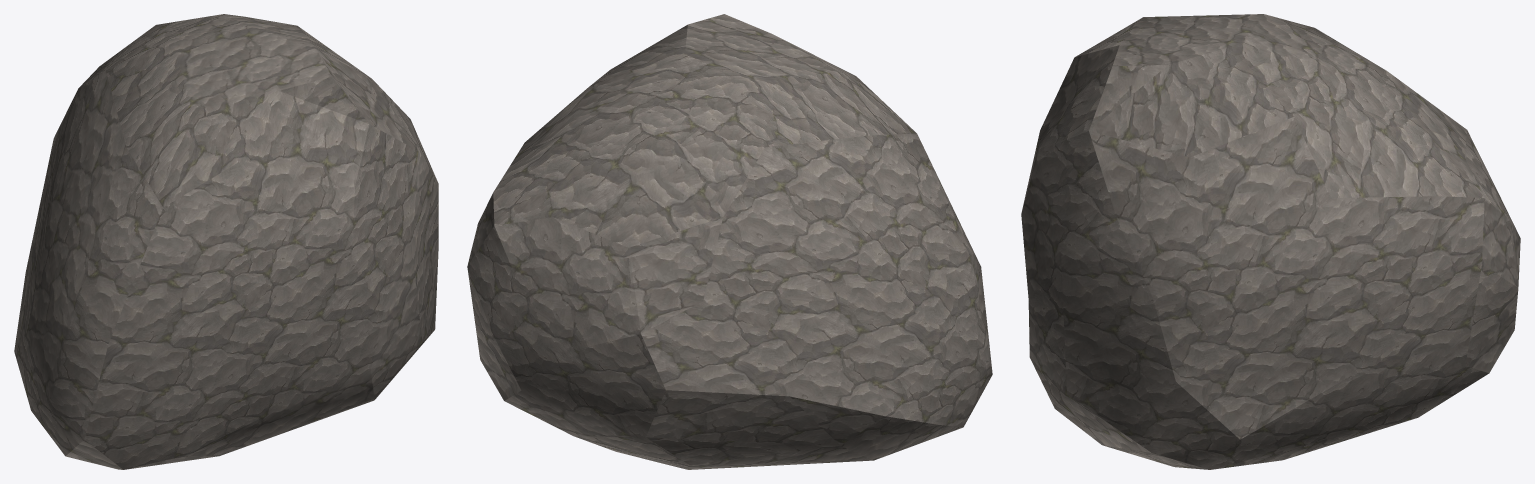
Rendered from grock_l.glb.
3 renders of one model, left to right at view 1: azimuth 30°, elevation 25°; view 2: azimuth 150°, elevation 25°; view 3: azimuth 270°, elevation 25°, orthographic. The views are drawn at different scales.
Visible parts, largest first — view 1: model; view 2: model; view 3: model.
Part boxes in pixels (bbox=[...]): model: bbox=[14, 14, 438, 469]; model: bbox=[467, 14, 992, 469]; model: bbox=[1021, 14, 1520, 469].
Size of the model in its own units: 2.62 by 2.28 by 2.55.
1 material, 1 textured.
